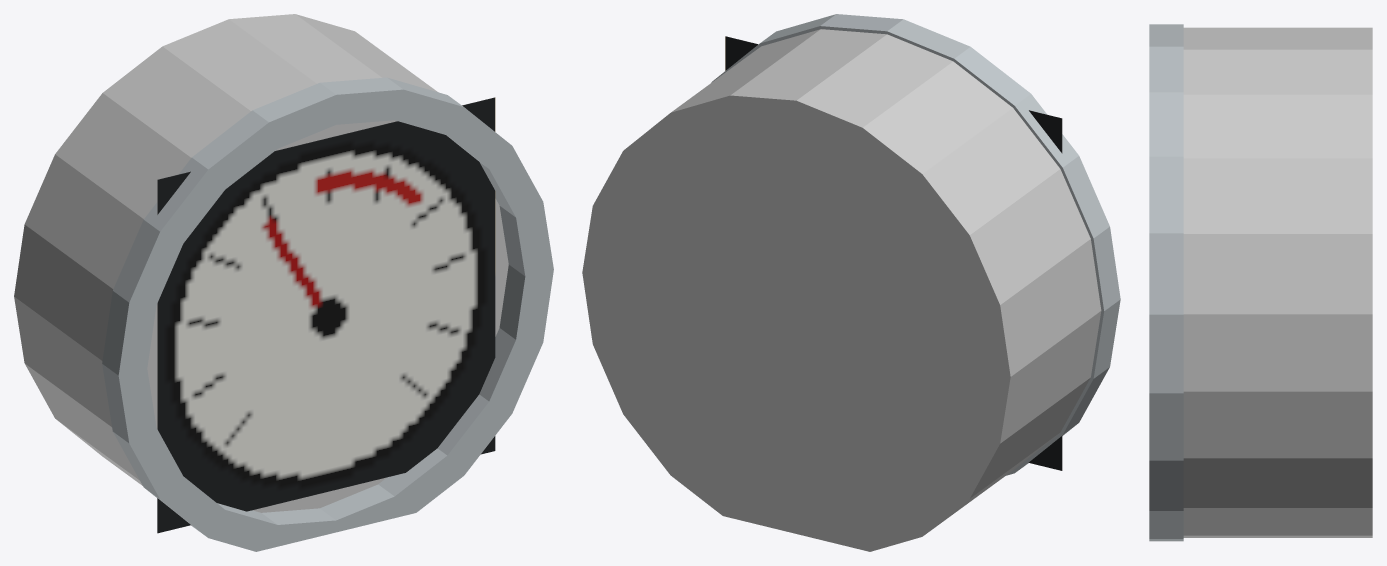
Rendered from cell_20.obj.
The picture shows the model from 3 angles, left to right: view 1: azimuth 30°, elevation 25°; view 2: azimuth 150°, elevation 25°; view 3: azimuth 270°, elevation 25°; orthographic projection. The views are drawn at different scales.
Bounding box in the file's own units: 0.152 × 0.146 × 0.065.
